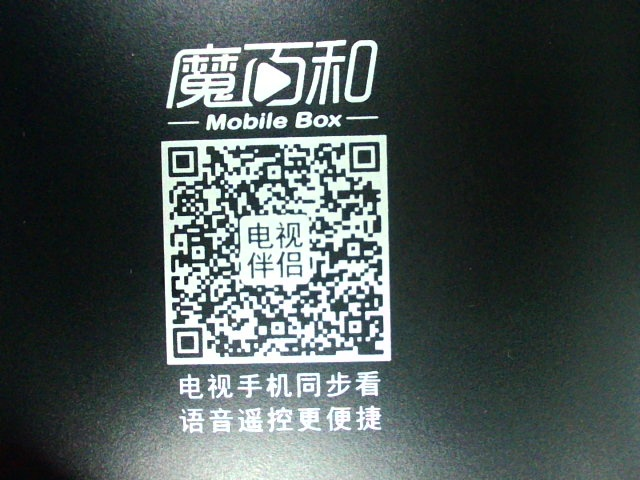AZ_MobileBox: (154, 33, 403, 434)
